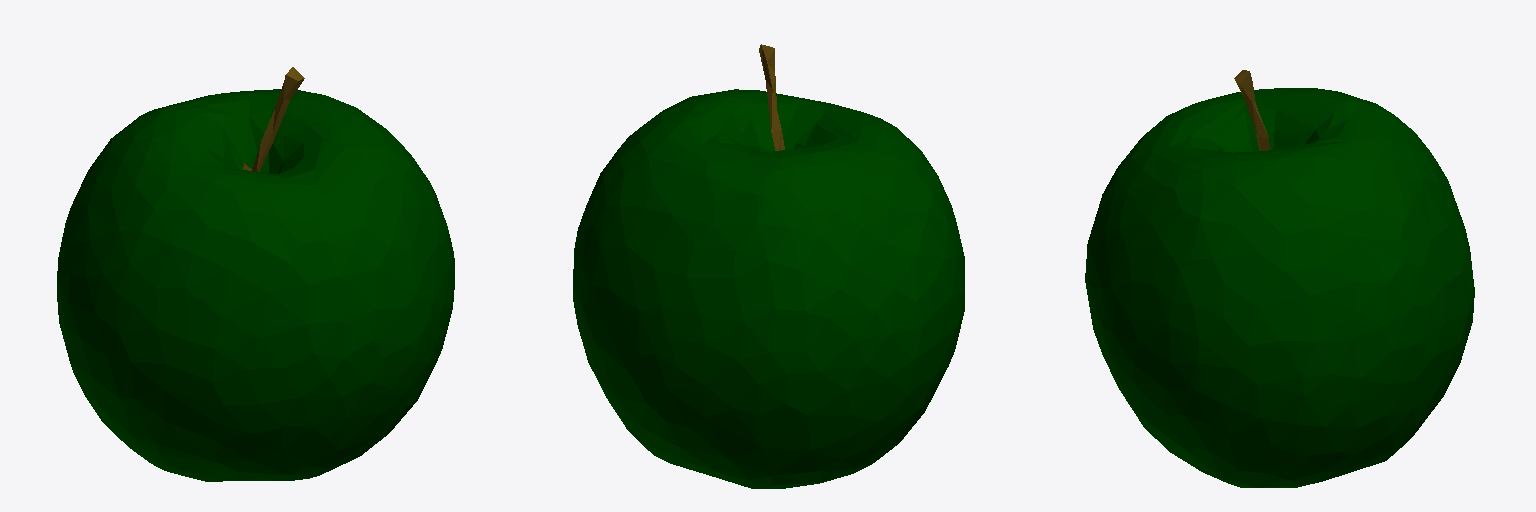
Rendered from ManzanaVariante.obj.
3 renders of one model, left to right at view 1: azimuth 30°, elevation 25°; view 2: azimuth 150°, elevation 25°; view 3: azimuth 270°, elevation 25°, orthographic.
Visible parts, largest first — view 1: Apple.1; view 2: Apple.1; view 3: Apple.1.
Boxes of the visible parts, <box> form: Apple.1: <box>57,67,454,481</box>; Apple.1: <box>573,44,964,488</box>; Apple.1: <box>1085,70,1474,487</box>.
Bounding box in the file's own units: 155 × 167 × 151.